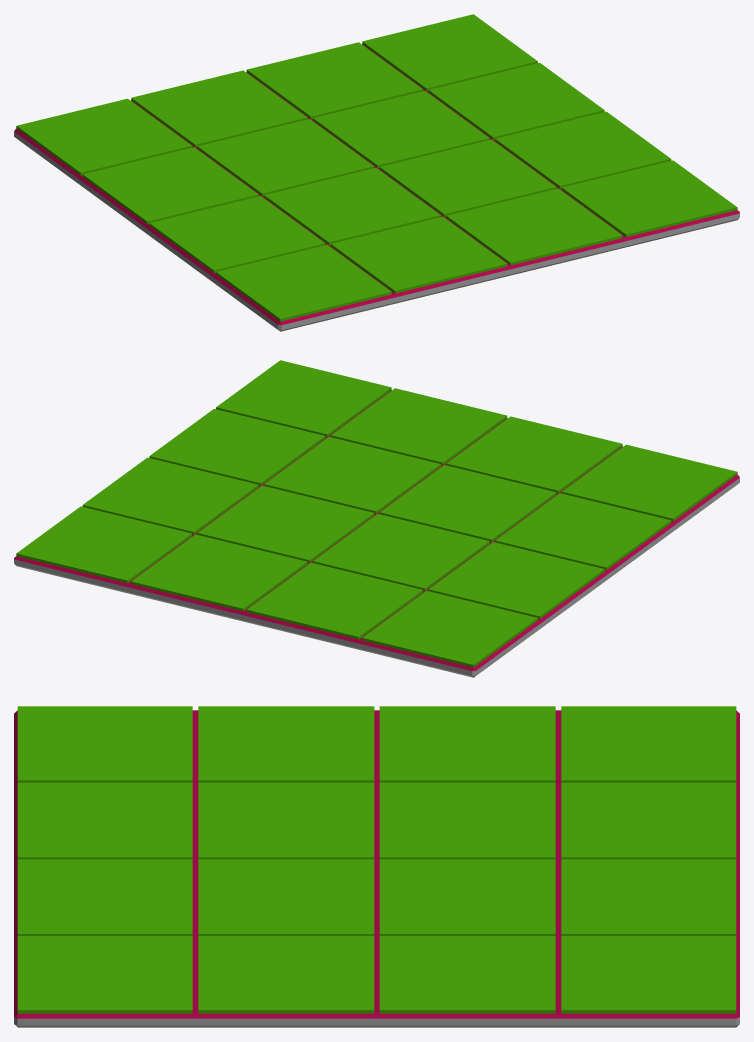
File: Floor1_inner.fbx
The picture shows the model from 3 angles, top to bottom: view 1: azimuth 30°, elevation 25°; view 2: azimuth 150°, elevation 25°; view 3: azimuth 270°, elevation 25°; orthographic projection. The views are drawn at different scales.
Parts seen in each view (by area): view 1: pCube11; view 2: pCube11; view 3: pCube11.
Part boxes in pixels (bbox=[...]): pCube11: bbox=[14, 14, 739, 331]; pCube11: bbox=[14, 360, 739, 677]; pCube11: bbox=[14, 706, 739, 1027].
Bounding box in the file's own units: 48 × 1.27 × 48.
